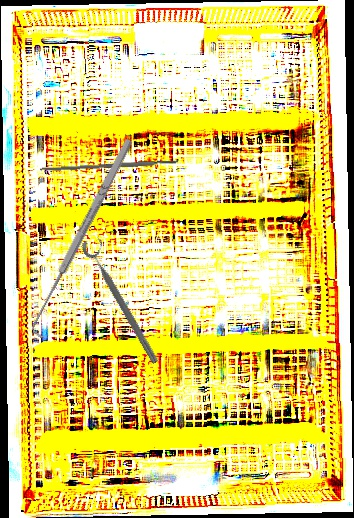Fixation Ring: (79, 233, 169, 367)
Hook Surgical: (25, 137, 141, 339)
Scalpel Handle: (39, 159, 179, 173)
